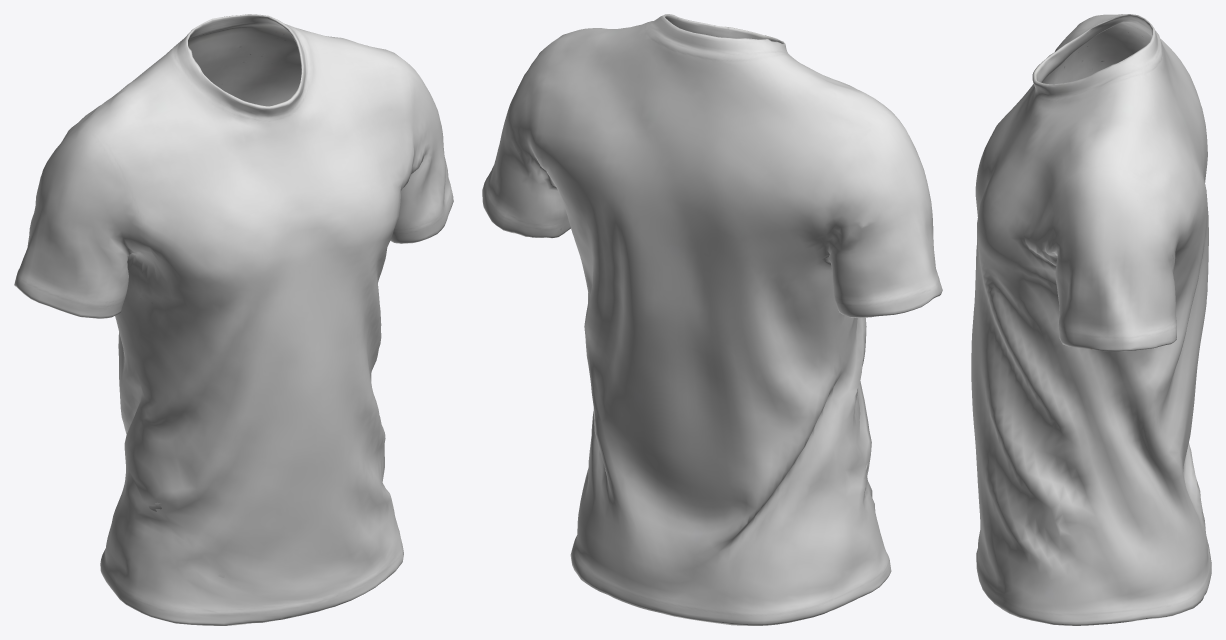
Rendered from football-jersey-textured.glb.
3 renders of one model, left to right at view 1: azimuth 30°, elevation 25°; view 2: azimuth 150°, elevation 25°; view 3: azimuth 270°, elevation 25°, orthographic. The views are drawn at different scales.
Parts seen in each view (by area): view 1: tripo_node_63393f4f-a094-4527-ba95-09529ba024ef; view 2: tripo_node_63393f4f-a094-4527-ba95-09529ba024ef; view 3: tripo_node_63393f4f-a094-4527-ba95-09529ba024ef.
Part boxes in pixels (x1,y1,x2,y2): tripo_node_63393f4f-a094-4527-ba95-09529ba024ef: (14,14,453,625); tripo_node_63393f4f-a094-4527-ba95-09529ba024ef: (482,14,942,625); tripo_node_63393f4f-a094-4527-ba95-09529ba024ef: (971,14,1211,625).
Bounding box in the file's own units: 0.84 × 0.9971 × 0.4042.
Materials: 1 (1 with a texture image).
